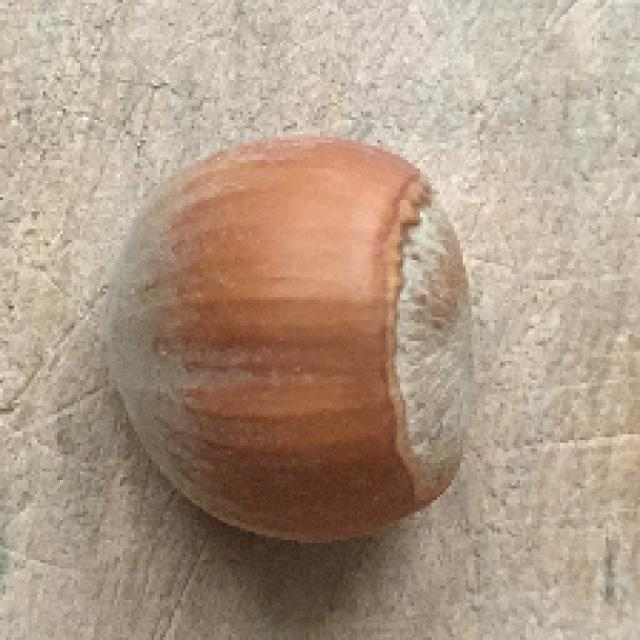QualityHazelnut: (104, 136, 472, 541)
